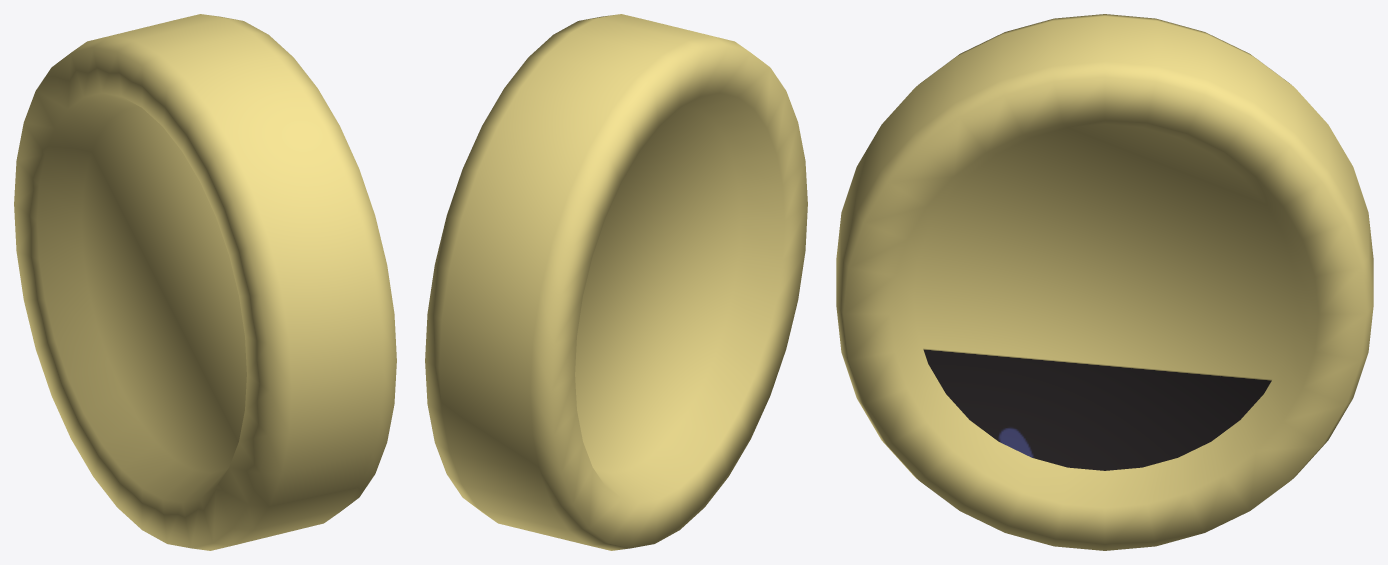
Rendered from Coin.obj.
3 renders of one model, left to right at view 1: azimuth 30°, elevation 25°; view 2: azimuth 150°, elevation 25°; view 3: azimuth 270°, elevation 25°, orthographic. The views are drawn at different scales.
Parts seen in each view (by area): view 1: 无标题.016; view 2: 无标题.016; view 3: 无标题.016.
Part boxes in pixels (<box>): 无标题.016: <box>14,14,396,550</box>; 无标题.016: <box>425,14,807,550</box>; 无标题.016: <box>836,14,1373,550</box>.
Size of the model in its own units: 0.0119 by 0.0428 by 0.0428.
